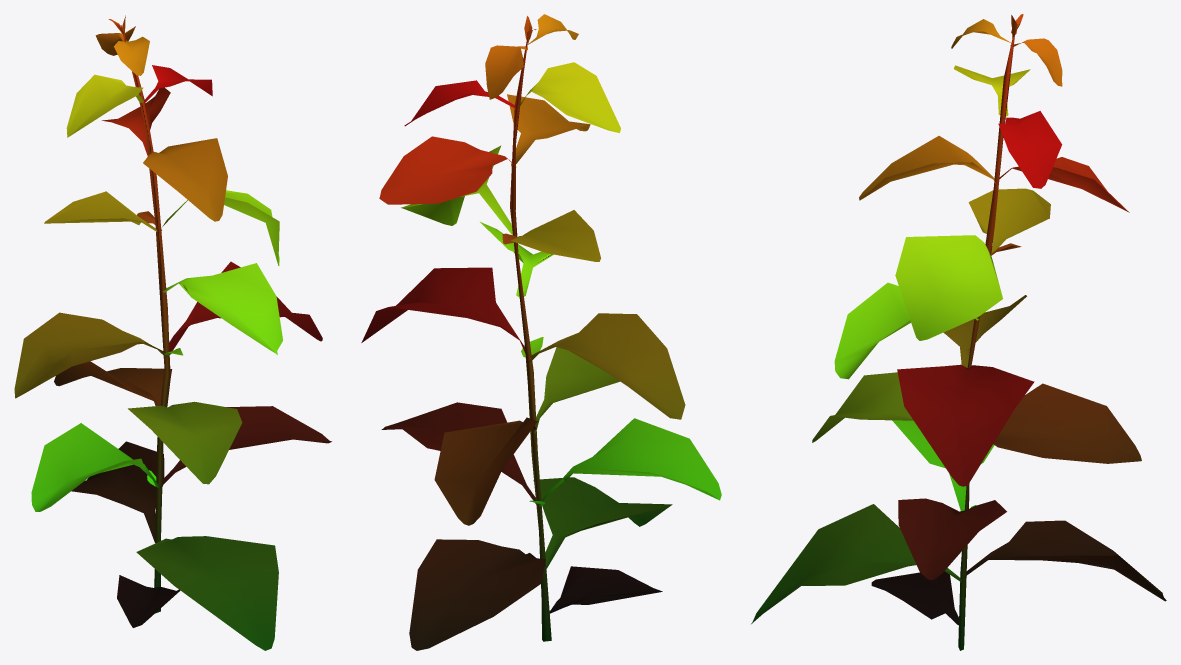
Rendered from SM_OW_Shrub_b_LOD2.fbx.
The picture shows the model from 3 angles, left to right: view 1: azimuth 30°, elevation 25°; view 2: azimuth 150°, elevation 25°; view 3: azimuth 270°, elevation 25°; orthographic projection. The views are drawn at different scales.
Parts seen in each view (by area): view 1: SM_OW_Shrub_b_LOD2; view 2: SM_OW_Shrub_b_LOD2; view 3: SM_OW_Shrub_b_LOD2.
Boxes of the visible parts, x1=… form: SM_OW_Shrub_b_LOD2: x1=14, y1=15, x2=331, y2=650; SM_OW_Shrub_b_LOD2: x1=361, y1=14, x2=721, y2=650; SM_OW_Shrub_b_LOD2: x1=751, y1=14, x2=1166, y2=650.
Bounding box in the file's own units: 0.1606 × 0.2939 × 0.176.
